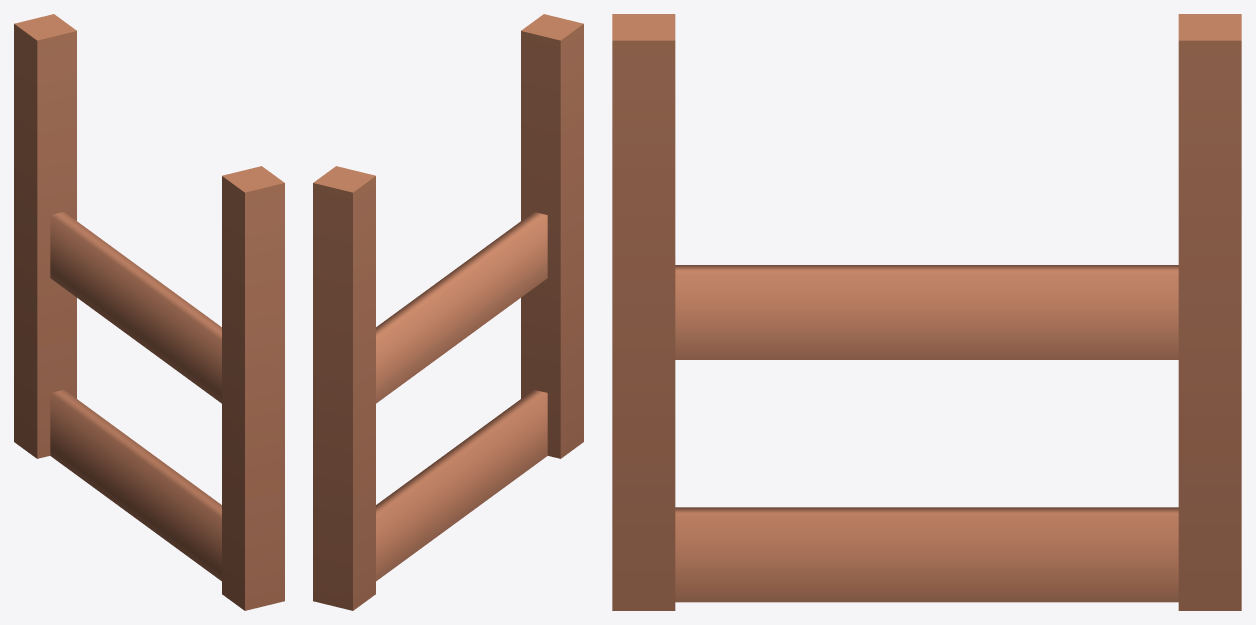
File: poles-horizontal.glb
3 renders of one model, left to right at view 1: azimuth 30°, elevation 25°; view 2: azimuth 150°, elevation 25°; view 3: azimuth 270°, elevation 25°, orthographic. The views are drawn at different scales.
Visible parts, largest first — view 1: poles-horizontal; view 2: poles-horizontal; view 3: poles-horizontal.
Boxes of the visible parts, x1,y1,x2,y2 form: poles-horizontal: (14,14,284,610); poles-horizontal: (313,14,583,610); poles-horizontal: (612,14,1241,610).
Size of the model in its own units: 0.1 by 1 by 1.
1 material, 1 textured.
